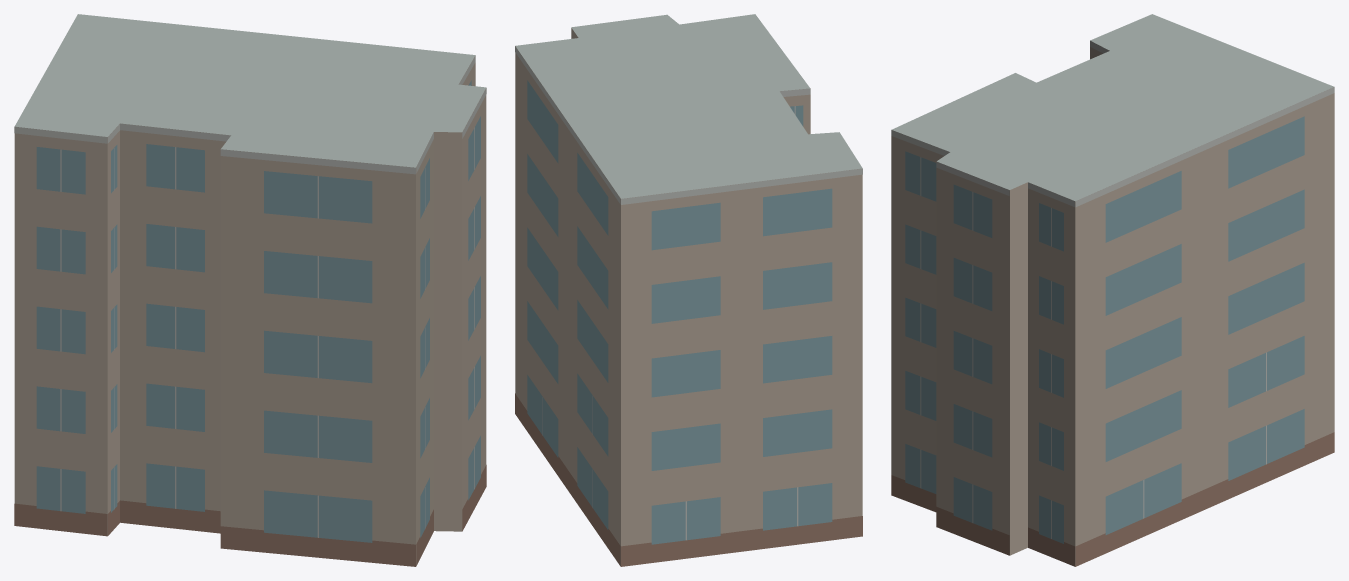
The model's file is survey-upis-32886848.glb.
3 renders of one model, left to right at view 1: azimuth 30°, elevation 25°; view 2: azimuth 150°, elevation 25°; view 3: azimuth 270°, elevation 25°, orthographic. The views are drawn at different scales.
Parts seen in each view (by area): view 1: survey-upis-32886848.tmp; view 2: survey-upis-32886848.tmp; view 3: survey-upis-32886848.tmp.
Part boxes in pixels (x1,y1,x2,y2): survey-upis-32886848.tmp: (14, 14, 486, 566); survey-upis-32886848.tmp: (515, 14, 862, 566); survey-upis-32886848.tmp: (891, 14, 1334, 566).
Size of the model in its own units: 15.94 by 14.5 by 15.94.
